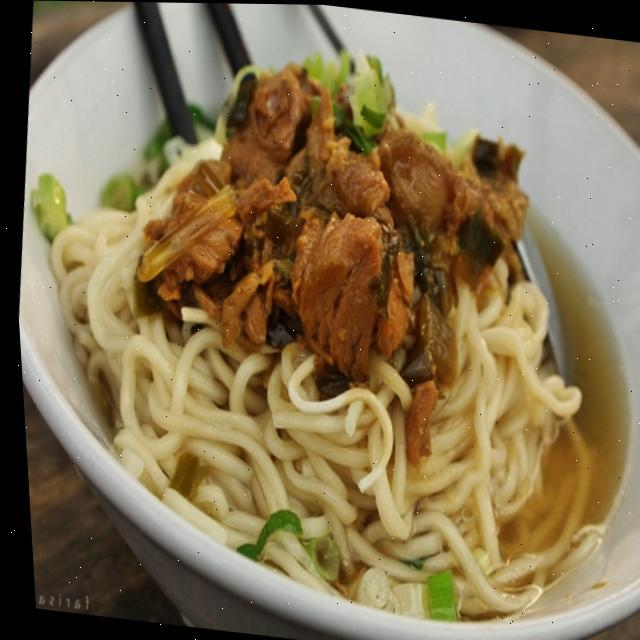面条主食: (0, 0, 640, 636)
